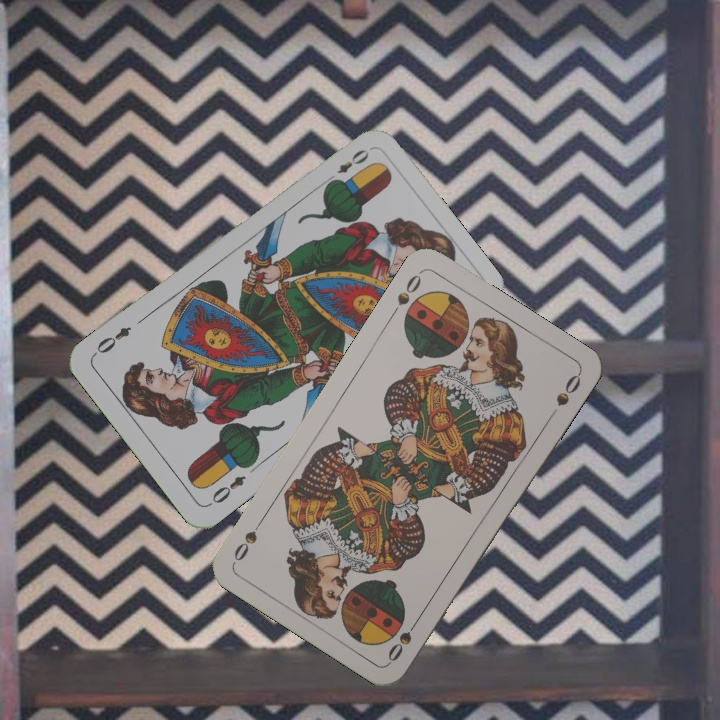EO: (322, 145, 372, 186), (204, 471, 249, 509)
SO: (383, 612, 423, 665), (386, 268, 424, 320)
